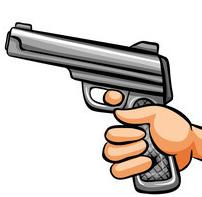gun: (1, 1, 202, 197)
